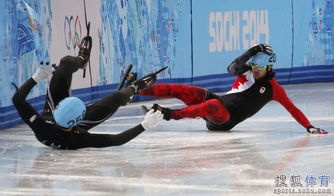falling: (3, 28, 164, 150)
